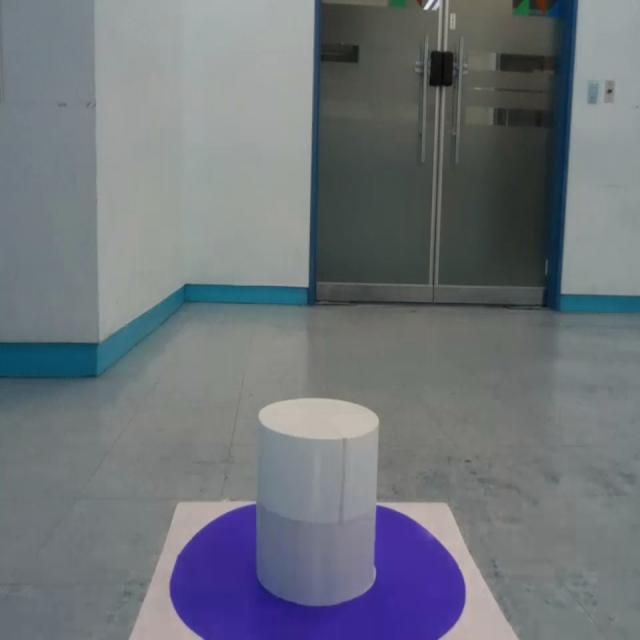cylinder: (253, 398, 379, 607)
